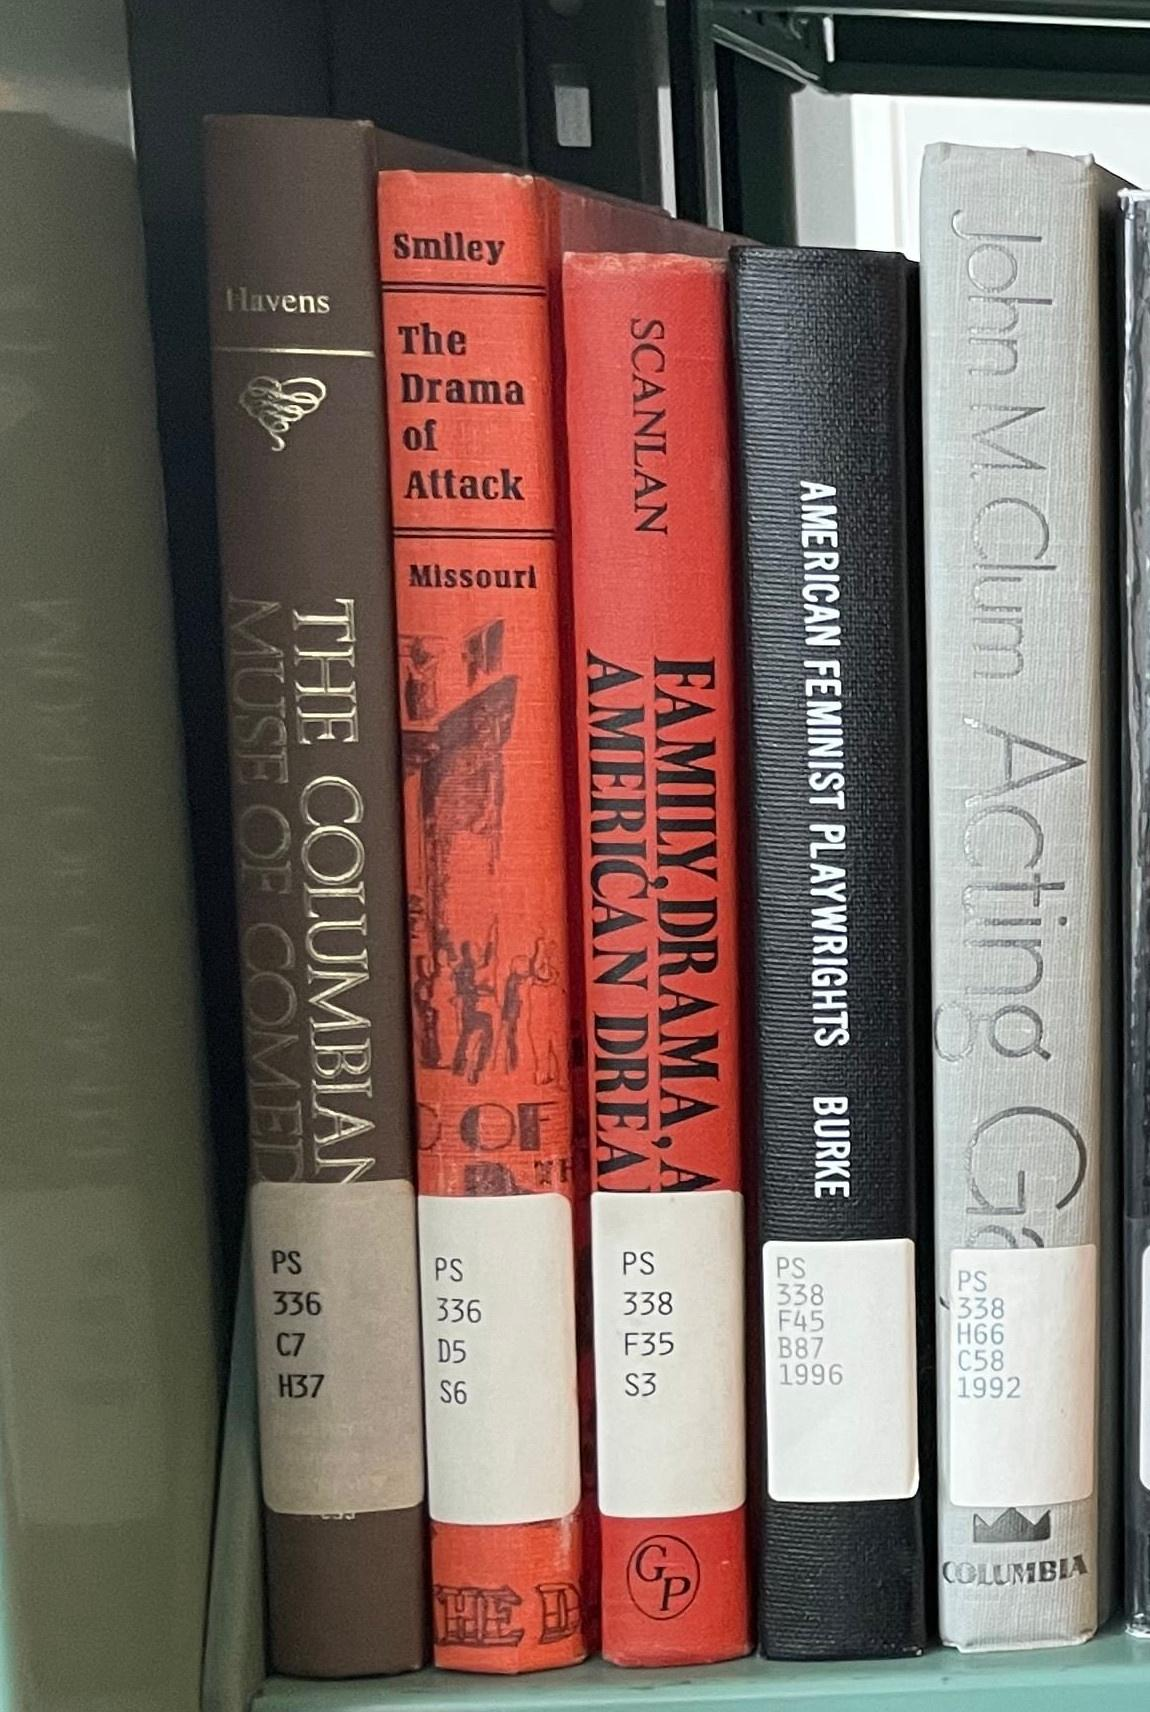call_number: (250, 1185, 415, 1512), (589, 1188, 744, 1507), (430, 1191, 567, 1514), (759, 1237, 918, 1496), (946, 1247, 1097, 1505)
